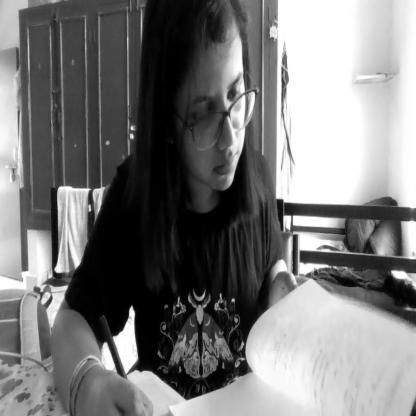Distracted: (154, 0, 250, 218)
